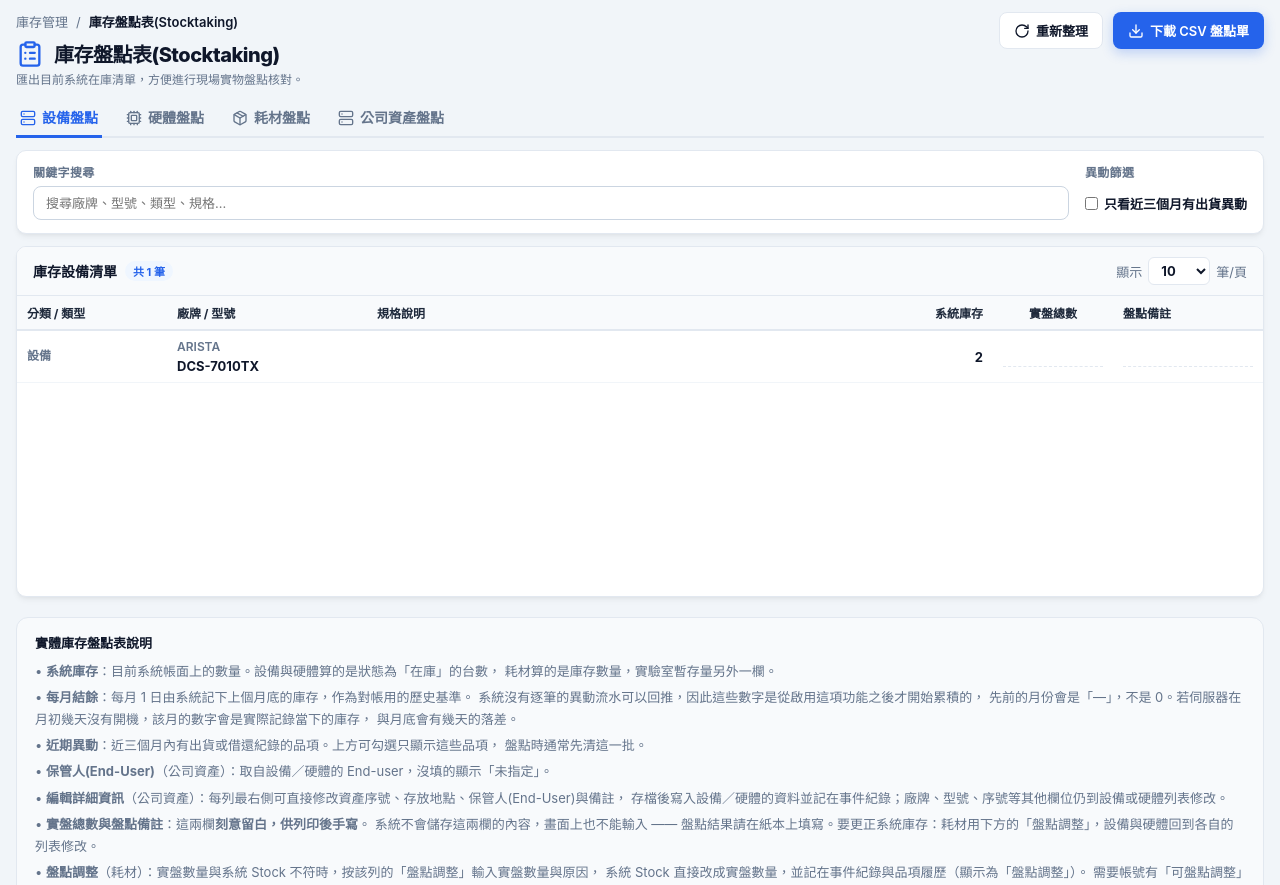
Test case: 公司資產盤點：編輯詳細資訊 › 每一列都有「編輯詳細資訊」，放在最後一欄、列印時不出現
Click the text "公司資產盤點" at (391, 118), box [338, 109, 444, 126]
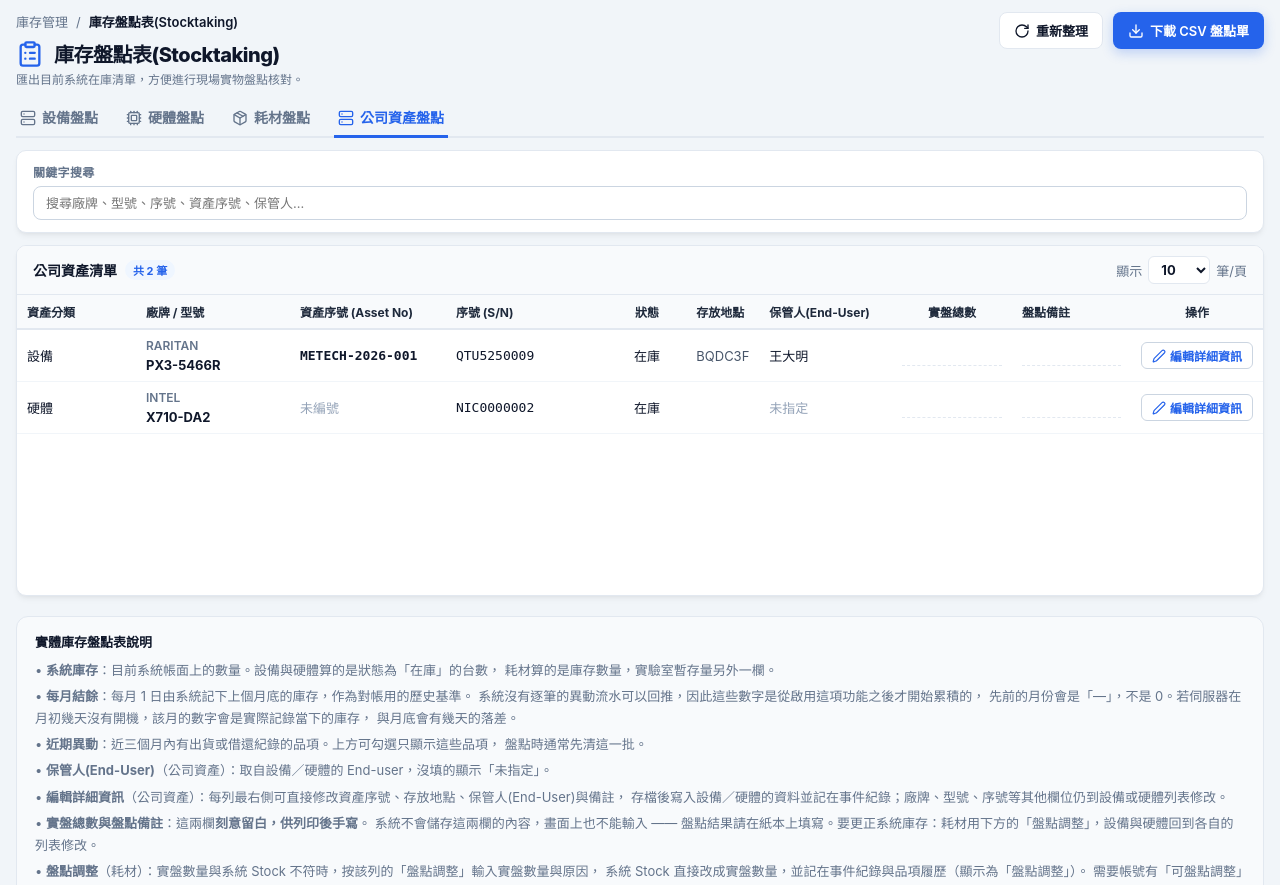
Expected: the text "QTU5250009" is shown, [446, 329, 608, 382]
Expected: the column heading "操作" is shown, [1131, 295, 1263, 329]
Expected: the button "編輯詳細資訊" in the row of "RARITAN" is shown, [1141, 342, 1253, 369]
